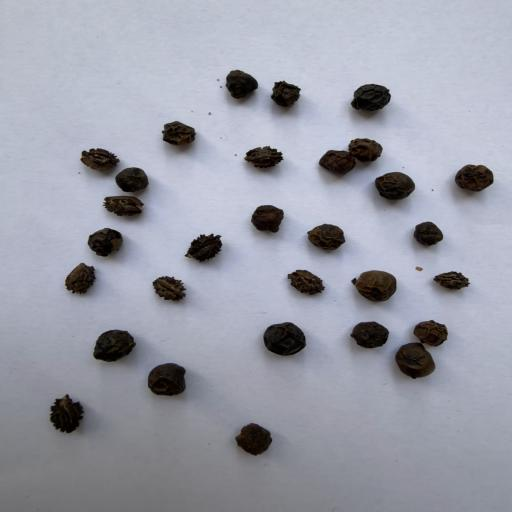Black_pepper: (86, 321, 138, 358), (229, 414, 277, 454), (257, 317, 306, 353), (349, 264, 395, 298), (348, 80, 393, 114), (148, 357, 189, 393), (390, 340, 434, 372), (85, 223, 127, 255), (344, 316, 388, 346), (308, 217, 346, 251), (157, 113, 200, 143), (454, 158, 494, 190), (222, 65, 259, 99), (412, 312, 454, 341), (246, 200, 282, 232), (348, 131, 388, 159), (406, 216, 443, 246), (115, 162, 154, 190), (270, 78, 305, 107), (374, 169, 410, 197), (320, 149, 354, 175)
papaya_seed: (34, 388, 88, 439), (180, 227, 234, 266), (277, 262, 331, 300), (144, 271, 196, 304), (61, 260, 106, 296), (237, 142, 288, 171), (430, 264, 476, 296), (101, 194, 157, 220), (76, 141, 112, 174)
